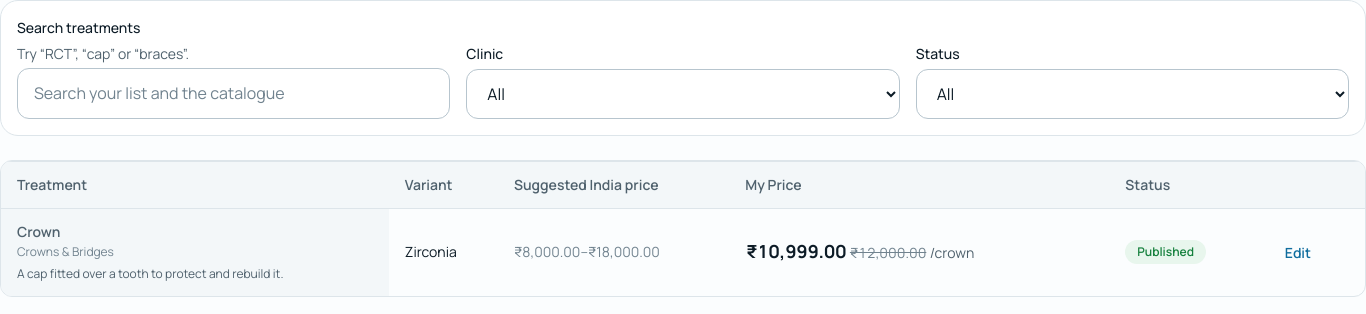
it: My Price (§4, §8, §20) › opens an inline editor on the price itself
Click the button named "Edit this price".
click(871, 252)  # box x1=737 y1=233 x2=1006 y2=271
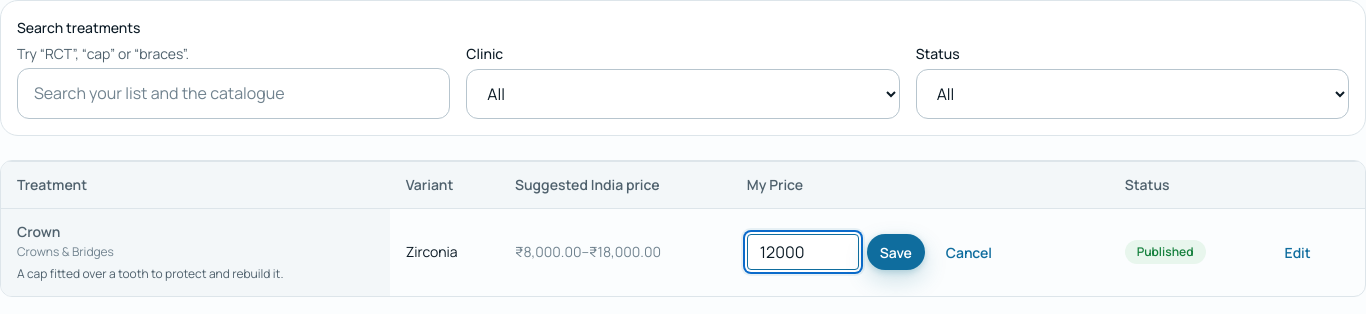
Result: the field named "My Price in rupees" is shown at x1=747 y1=234 x2=859 y2=270
